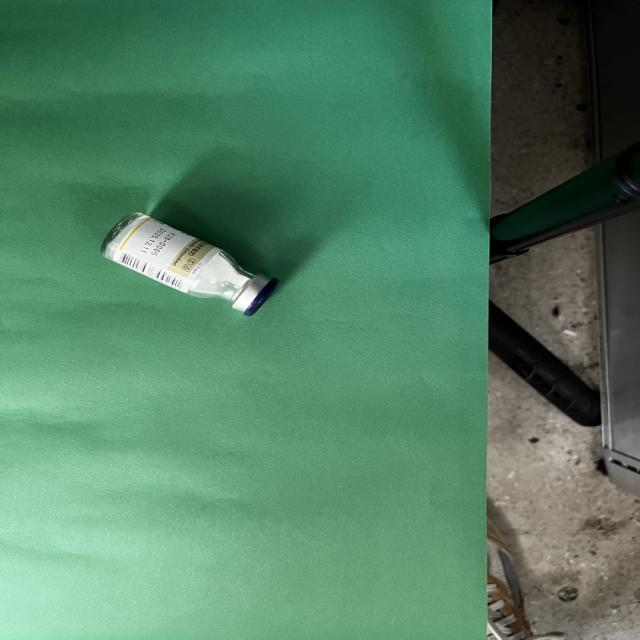Vials: (101, 212, 279, 316)
